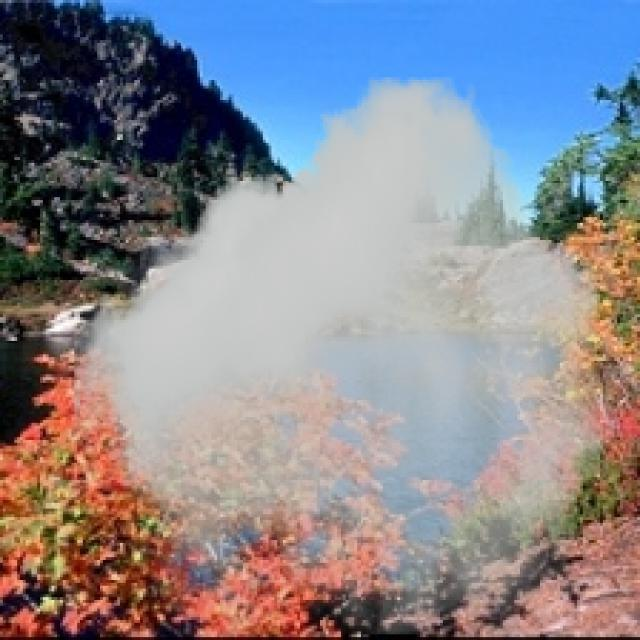Smoke: (74, 77, 609, 634)
